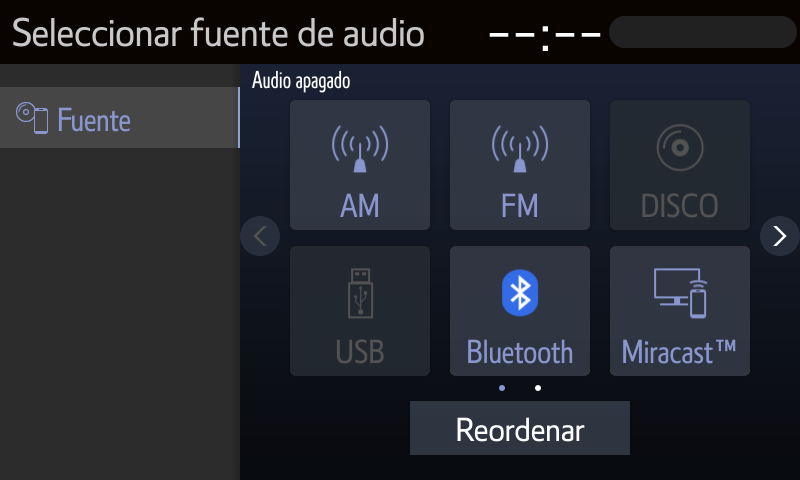touchPart: (448, 99, 593, 233), (448, 245, 592, 379), (288, 98, 429, 233), (609, 249, 752, 378), (406, 400, 637, 458), (755, 216, 798, 258)
untouchPart: (607, 98, 752, 231), (289, 245, 431, 378), (4, 86, 240, 151), (10, 13, 429, 48), (481, 13, 799, 51), (238, 213, 282, 258)
